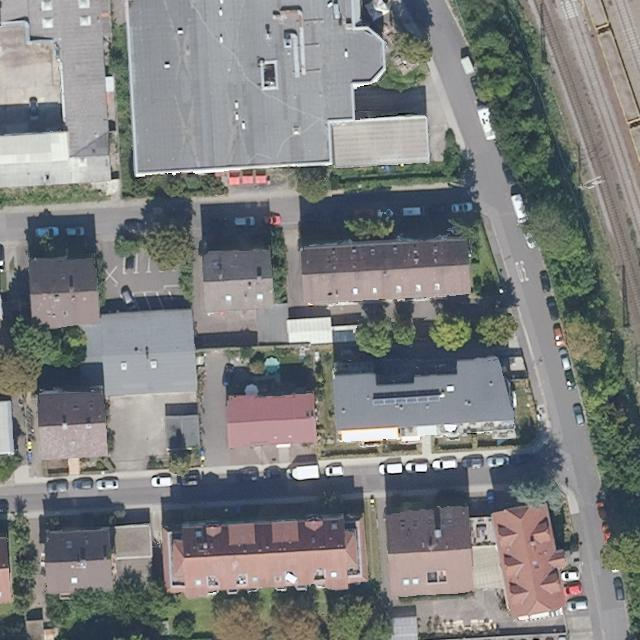PV: (368, 394, 442, 407)
